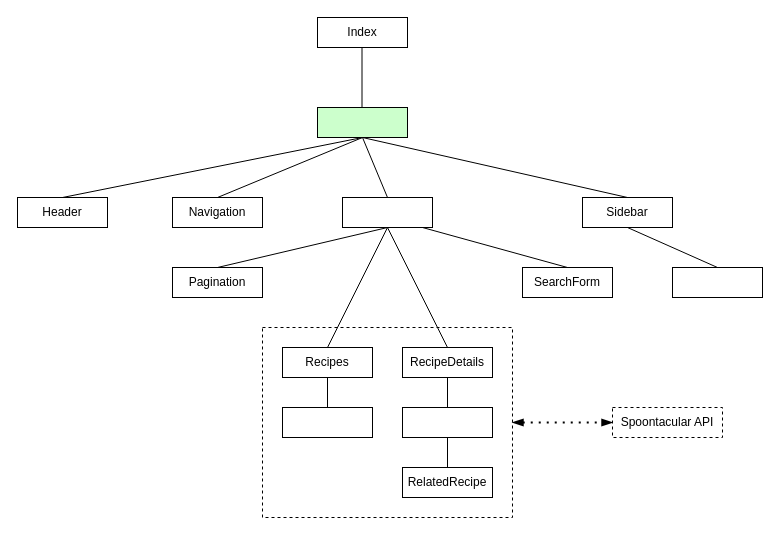
Image size: 780x535. Some labels were removed from this diagram. The shapes that lost their labels are listed below. From the top down, each one's centre as x and y in pixels, then its label:
(362,122): App
(387,212): MainContent
(717,282): Filters
(327,422): RecipeCard
(447,422): Carousel
